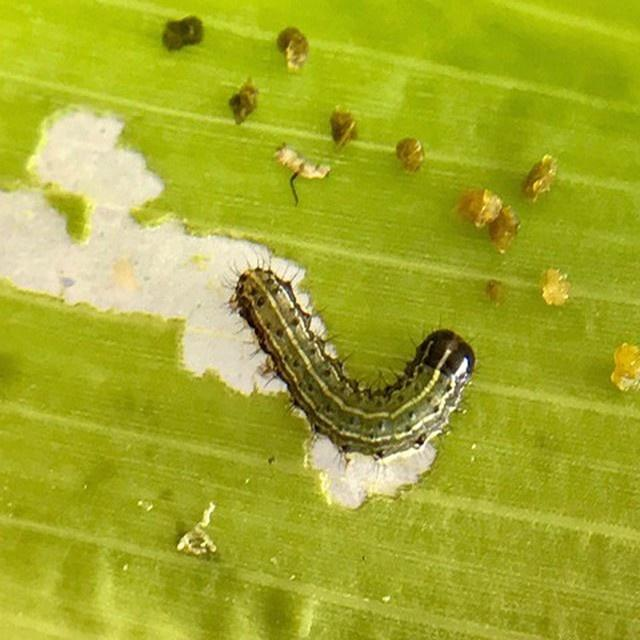yellow-stem-borer-larva: (209, 248, 518, 481)
